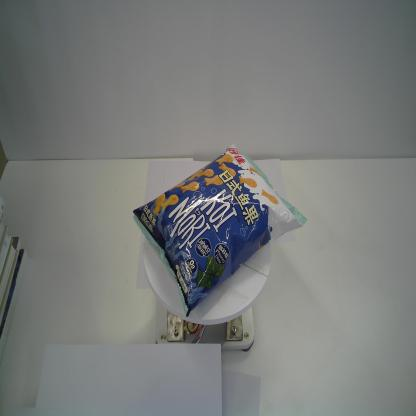Puffed Food: (132, 142, 308, 318)
